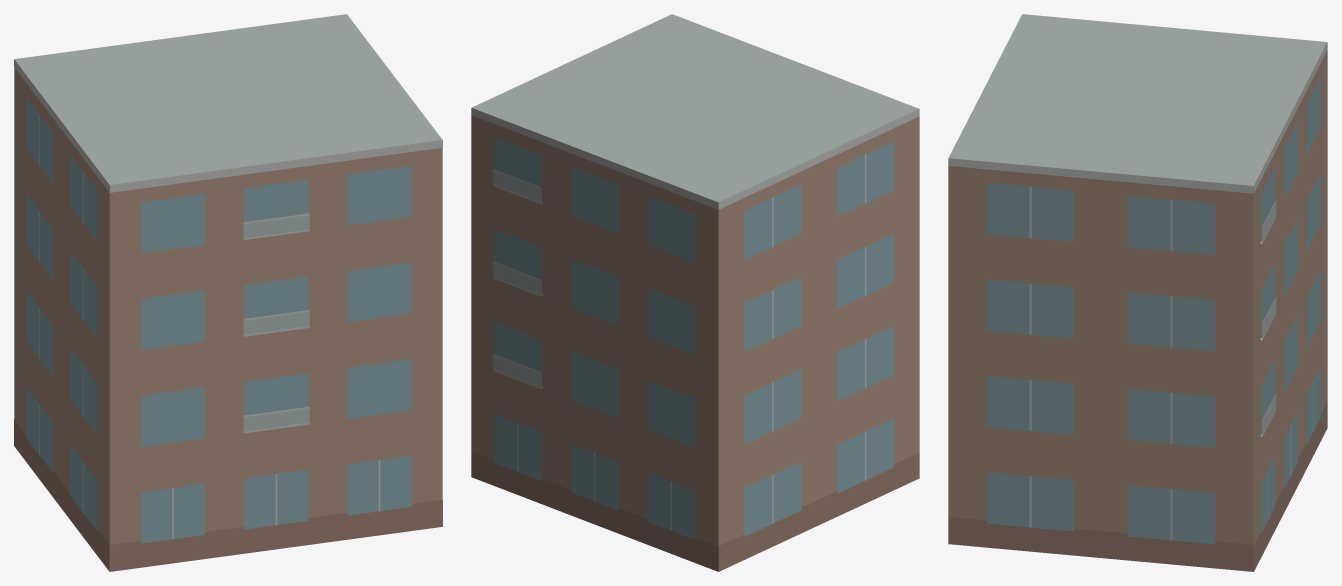
File: residential-91f61283-1cbd-4703-801c-d858dd24c889.glb
3 renders of one model, left to right at view 1: azimuth 30°, elevation 25°; view 2: azimuth 150°, elevation 25°; view 3: azimuth 270°, elevation 25°, orthographic. The views are drawn at different scales.
Parts seen in each view (by area): view 1: residential-91f61283-1cbd-4703-801c-d858dd24c889.tmp; view 2: residential-91f61283-1cbd-4703-801c-d858dd24c889.tmp; view 3: residential-91f61283-1cbd-4703-801c-d858dd24c889.tmp.
Part boxes in pixels (bbox=[...]): residential-91f61283-1cbd-4703-801c-d858dd24c889.tmp: bbox=[14, 14, 442, 571]; residential-91f61283-1cbd-4703-801c-d858dd24c889.tmp: bbox=[471, 14, 919, 571]; residential-91f61283-1cbd-4703-801c-d858dd24c889.tmp: bbox=[948, 14, 1327, 571].
Size of the model in its own units: 11.67 by 12.2 by 10.88.
